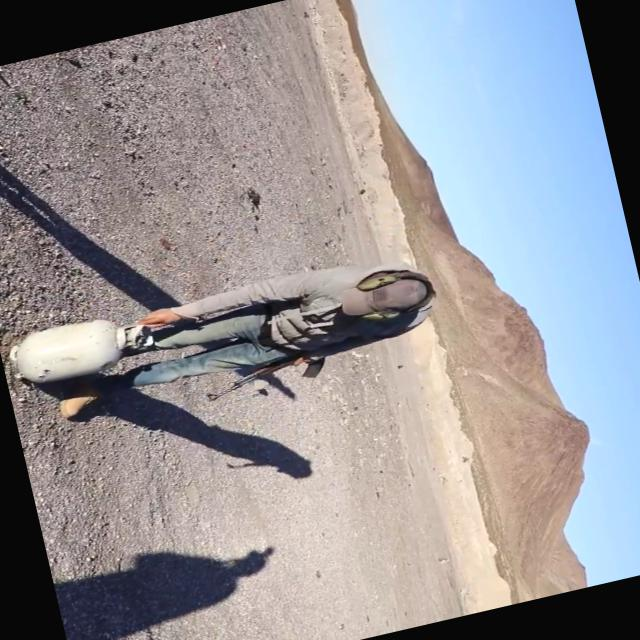long weapon: (198, 340, 338, 417)
